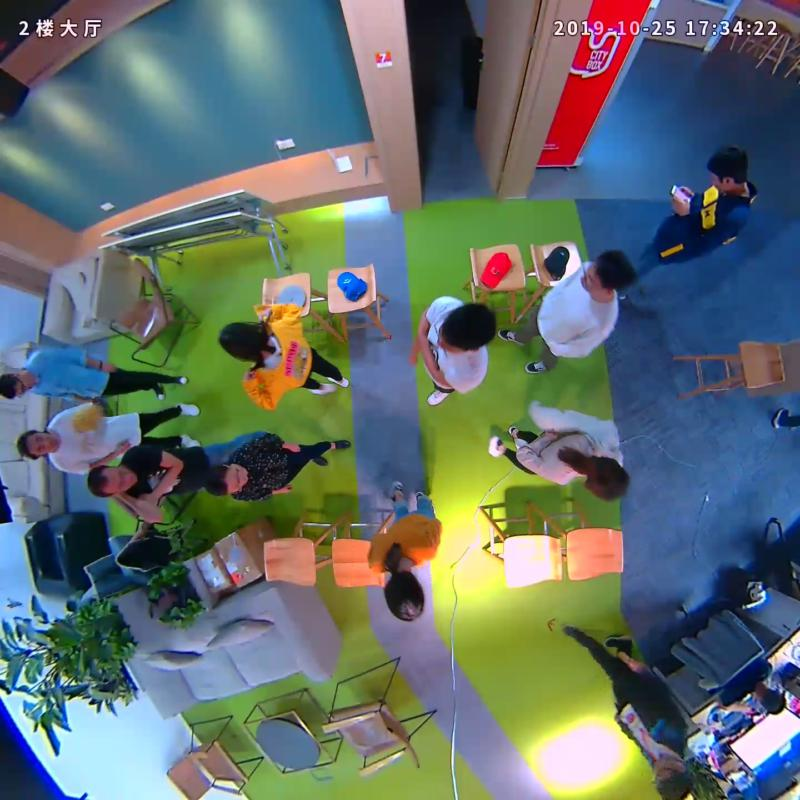head: (436, 304, 496, 355), (581, 250, 634, 294), (582, 455, 629, 500), (384, 572, 425, 623), (705, 146, 748, 193), (218, 320, 266, 362), (652, 755, 693, 800), (86, 463, 133, 497), (202, 464, 248, 495), (16, 429, 56, 459), (1, 372, 35, 399)
